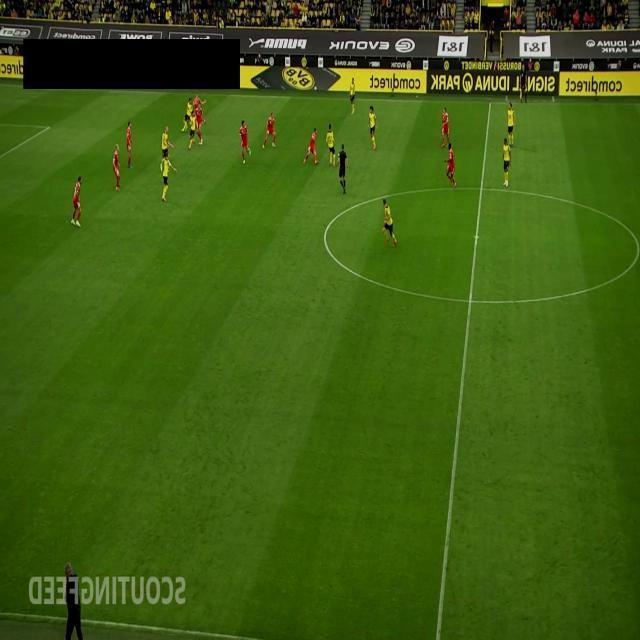team1: (238, 119, 252, 165), (71, 176, 83, 227), (192, 92, 206, 134), (303, 128, 319, 164), (262, 112, 276, 148), (196, 103, 207, 145), (446, 142, 456, 188), (112, 144, 121, 192), (440, 106, 450, 148), (126, 120, 133, 168)
team2: (381, 198, 397, 248), (160, 150, 174, 202), (502, 137, 512, 187), (368, 106, 378, 150), (326, 123, 336, 167), (181, 98, 193, 132), (162, 126, 174, 160), (507, 102, 515, 147), (188, 110, 196, 150), (349, 76, 355, 115)
